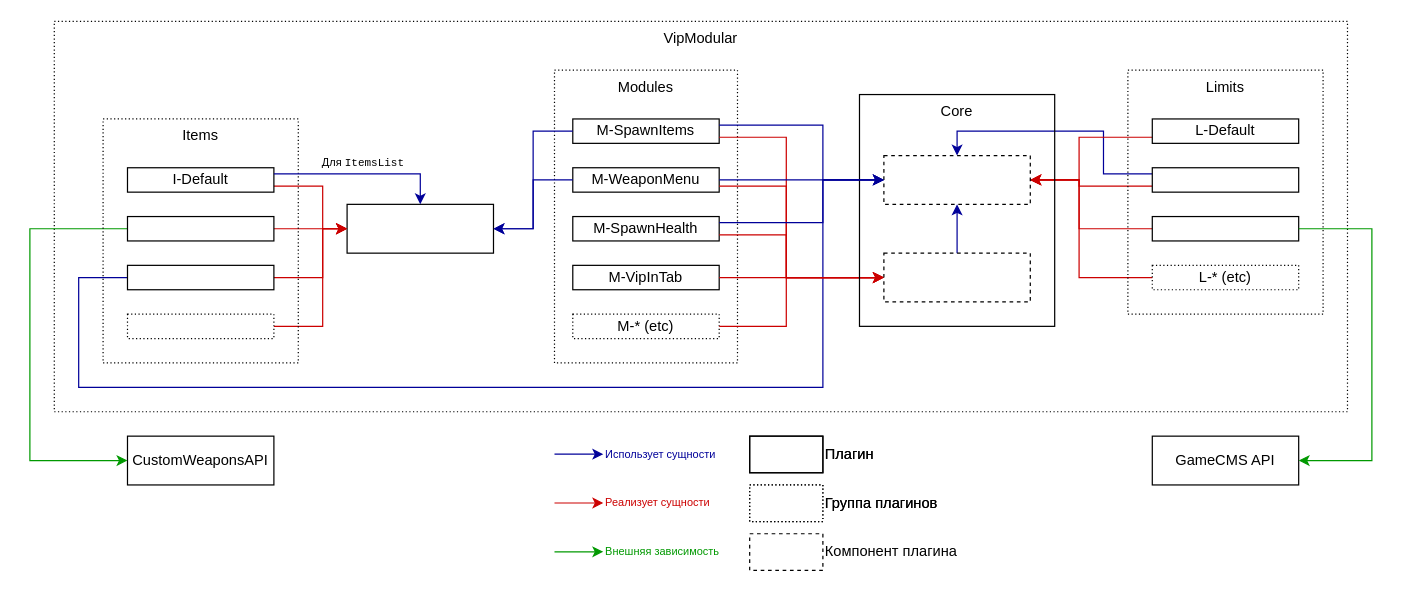
The diagram is 1403 pixels wide and 592 high, and some of its shapes have lost their labels. Each missing label, with the centre of its shape:
"I-* (etc)" belongs at point 200,326.
"I-Cwapi" belongs at point 200,228.
"I-Limits" belongs at point 200,277.
"Items controller" belongs at point 419,228.
"L-GameCMS" belongs at point 1225,228.
"L-Logic" belongs at point 1225,179.
"Limits controller" belongs at point 956,179.
"Modules controller" belongs at point 956,277.
